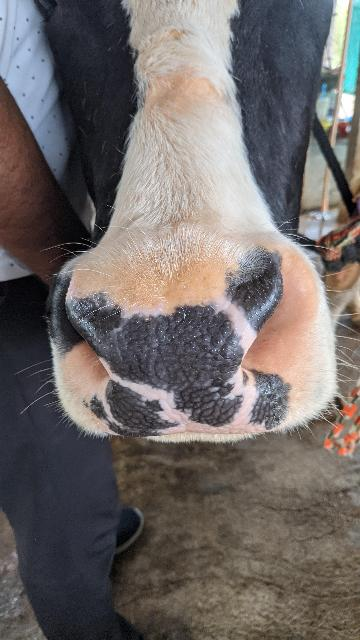Muzzle: (64, 302, 278, 428)
